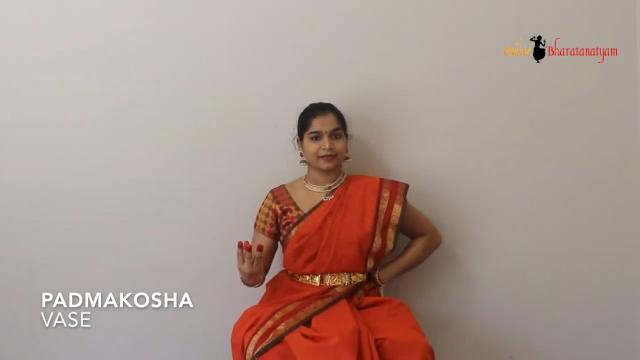padamkosh: (225, 202, 283, 304)
